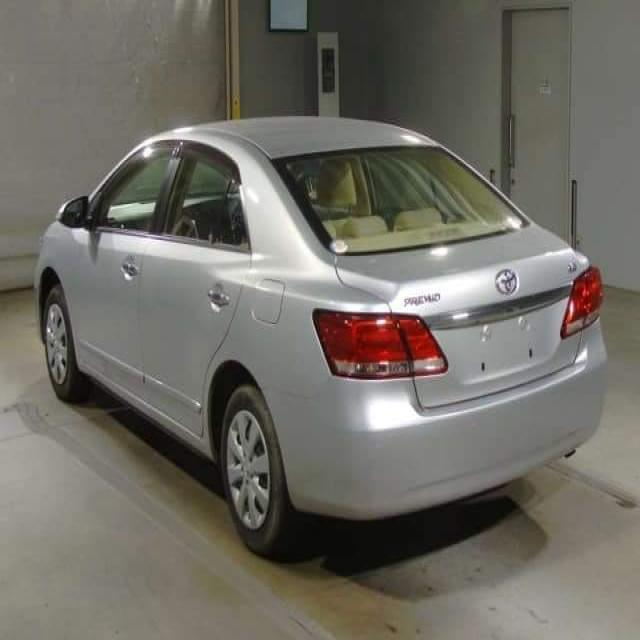silver: (49, 123, 605, 544)
